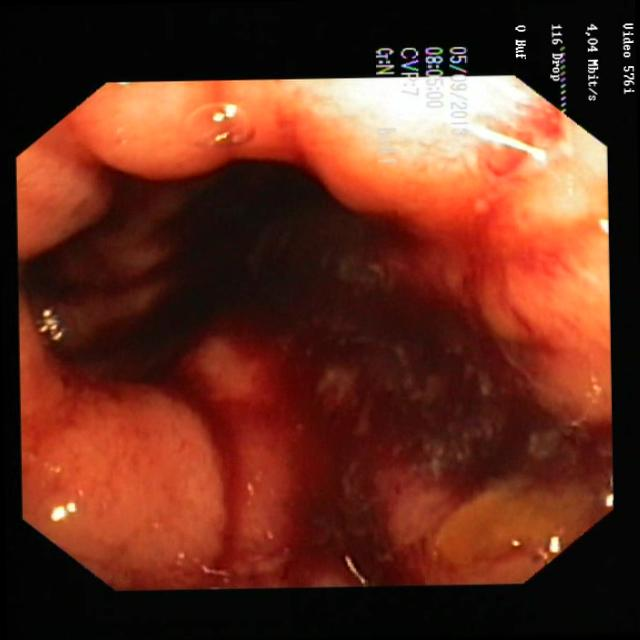ulcerative-colities: (7, 77, 613, 590)
